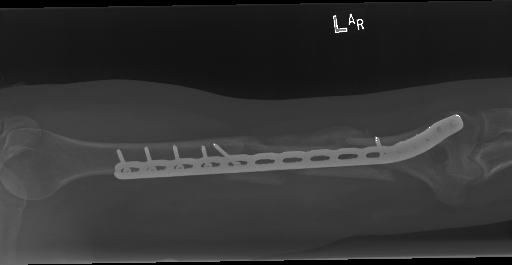implant: (370, 112, 465, 168), (113, 140, 249, 177)
